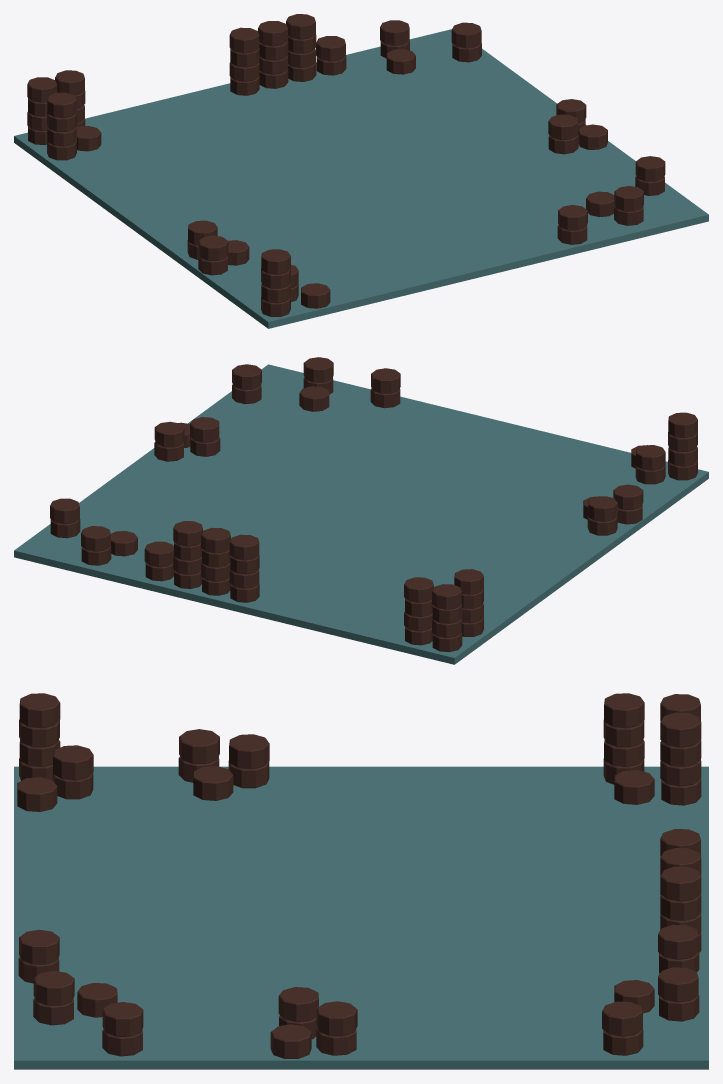
The model's file is resource_node.glb.
3 views of the same model, one above another, from view 1: azimuth 30°, elevation 25°; view 2: azimuth 150°, elevation 25°; view 3: azimuth 270°, elevation 25° (orthographic). The views are drawn at different scales.
Parts seen in each view (by area): view 1: Cube, Cylinder, Cylinder.016, Cylinder.008, Cylinder.004, Cylinder.011, Cylinder.010, Cylinder.002, Cylinder.019, Cylinder.007, Cylinder.022, Cylinder.012 (+12 smaller); view 2: Cube, Cylinder.010, Cylinder, Cylinder.008, Cylinder.004, Cylinder.013, Cylinder.011, Cylinder.016, Cylinder.002, Cylinder.007, Cylinder.009, Cylinder.020 (+9 smaller); view 3: Cube, Cylinder.013, Cylinder.016, Cylinder.008, Cylinder.011, Cylinder.006, Cylinder.023, Cylinder.003, Cylinder.002, Cylinder.001, Cylinder.020, Cylinder.009 (+13 smaller).
Part boxes in pixels (x1,y1,x2,y2): Cube: (14,29,708,328); Cylinder: (229,27,259,95); Cylinder.016: (47,92,76,160); Cylinder.008: (261,249,290,316); Cylinder.004: (258,21,288,88); Cylinder.011: (286,14,316,81); Cylinder.010: (27,77,56,145); Cylinder.002: (451,22,481,62); Cylinder.019: (198,235,228,275); Cylinder.007: (557,205,587,244); Cylinder.022: (548,114,578,154); Cylinder.012: (316,36,346,75); Cube: (14,364,708,664); Cylinder.010: (432,584,462,652); Cylinder: (229,534,259,602); Cylinder.008: (668,412,697,480); Cylinder.004: (201,527,230,595); Cylinder.013: (404,577,433,645); Cylinder.011: (173,521,202,588); Cylinder.016: (454,569,483,636); Cylinder.002: (50,498,80,538); Cylinder.007: (370,368,400,408); Cylinder.009: (635,445,665,484); Cylinder.020: (587,496,617,535); Cube: (14,766,708,1069); Cylinder.013: (660,712,701,805); Cylinder.016: (603,693,644,784); Cylinder.008: (19,693,60,780); Cylinder.011: (660,866,701,952); Cylinder.006: (33,971,74,1025); Cylinder.023: (316,1001,357,1055); Cylinder.003: (102,1002,143,1056); Cylinder.002: (602,1001,643,1055); Cylinder.001: (658,967,699,1021); Cylinder.020: (228,734,269,788); Cylinder.009: (52,745,93,799).
Size of the model in its own units: 7.99 by 1.09 by 7.98.
